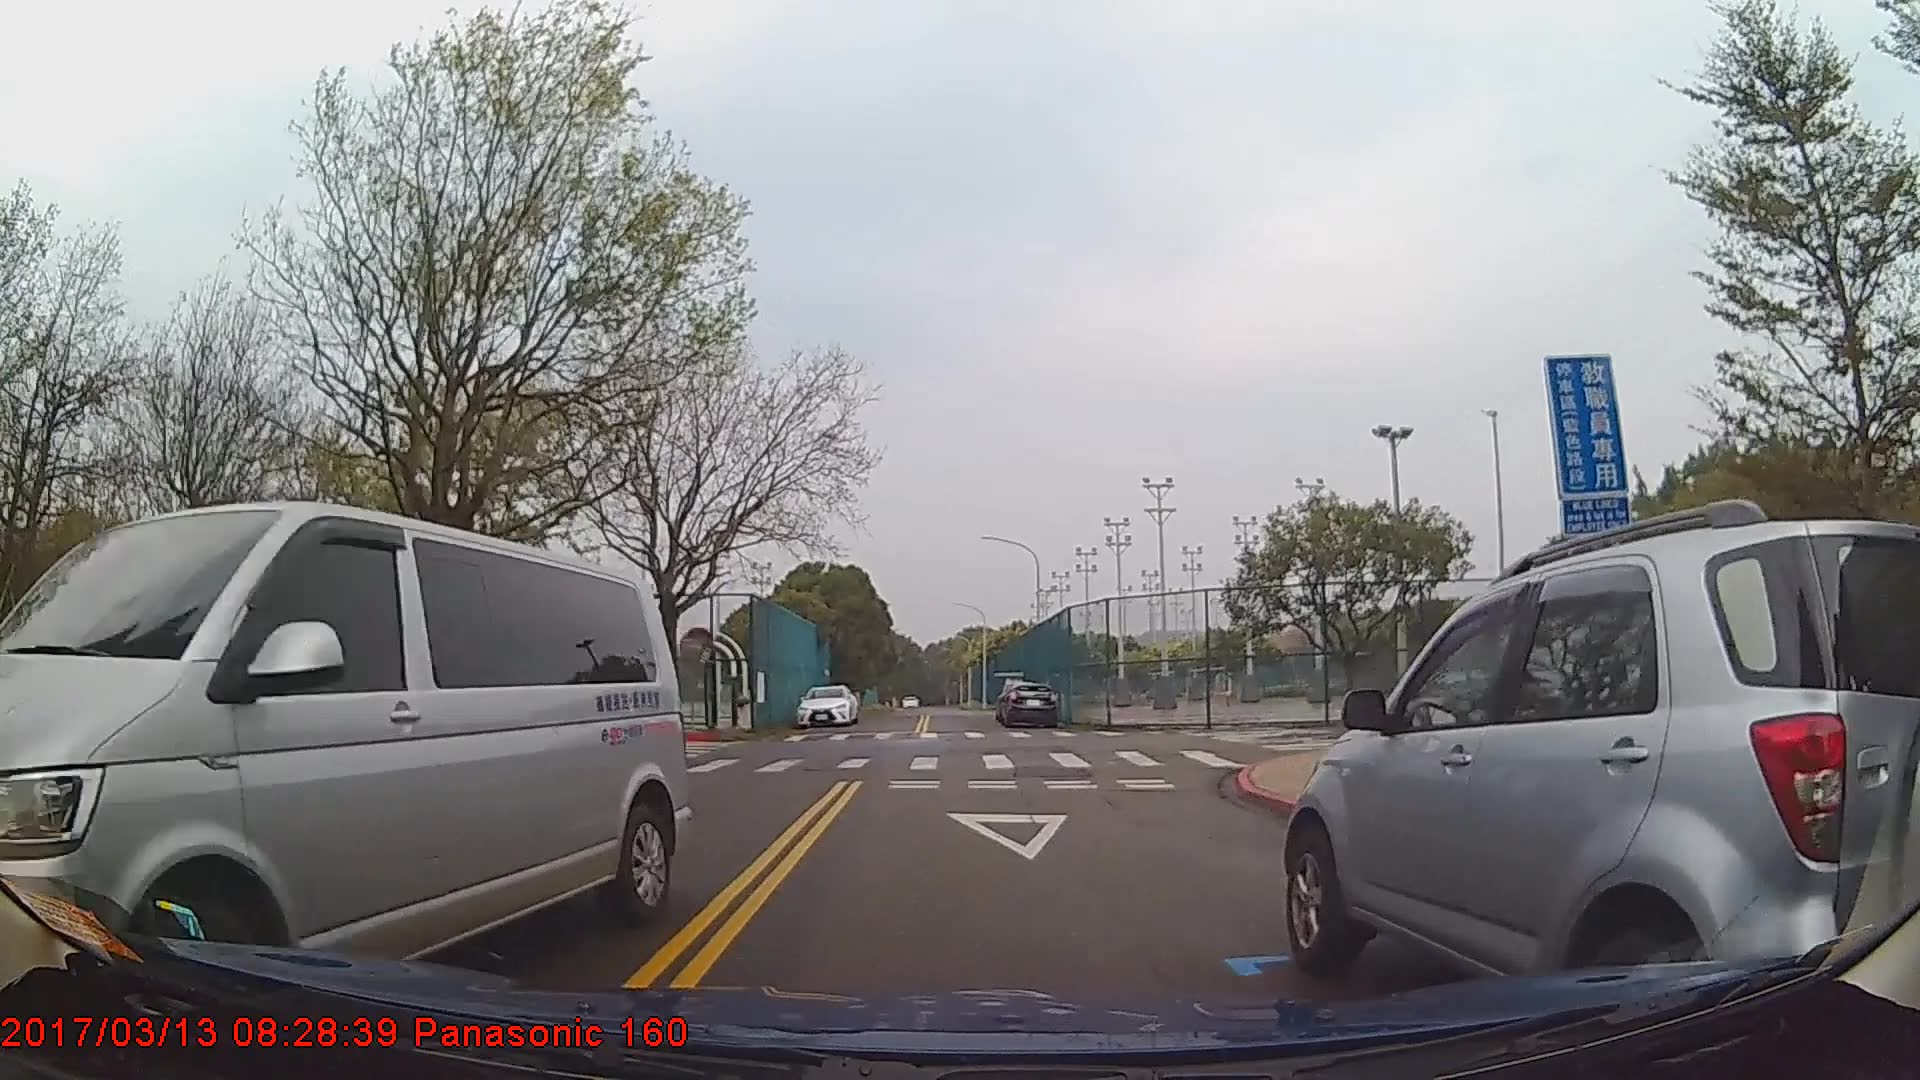vehicle: (0, 495, 691, 1005), (1282, 516, 1920, 1034), (794, 682, 858, 727), (1002, 680, 1059, 729)
